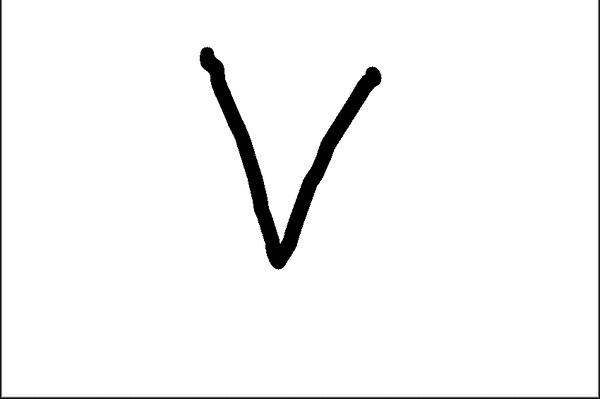V: (182, 29, 412, 278)
